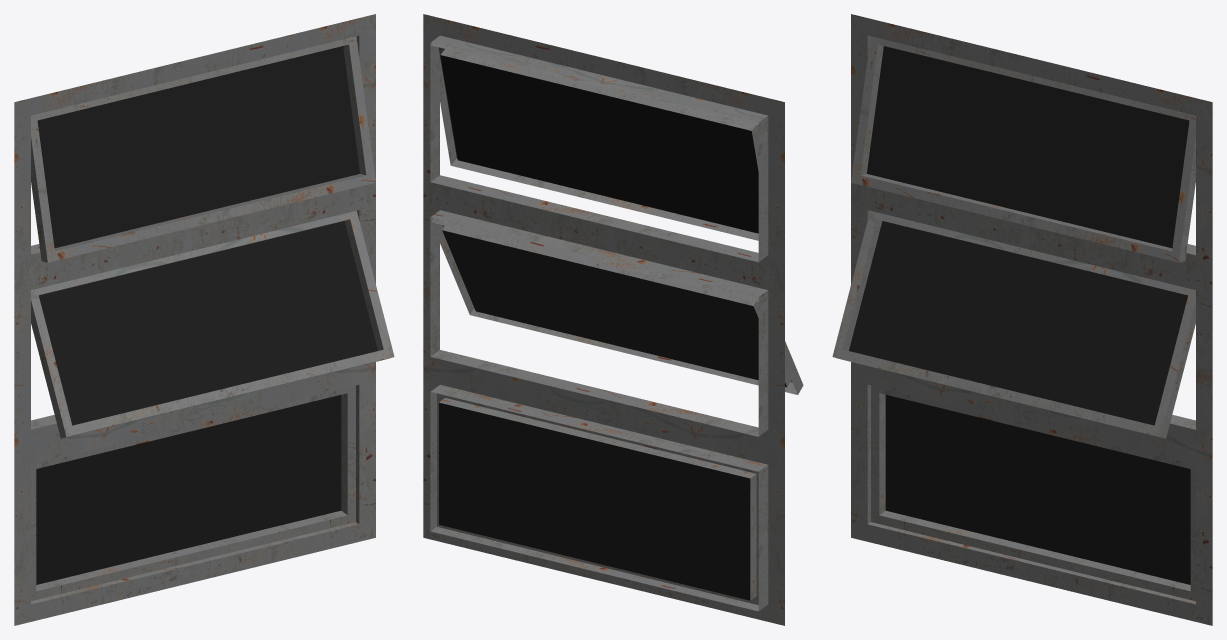
The model's file is window_001_001_26.gltf.
3 renders of one model, left to right at view 1: azimuth 30°, elevation 25°; view 2: azimuth 150°, elevation 25°; view 3: azimuth 330°, elevation 25°, orthographic.
Visible parts, largest first — view 1: Window_001.001_26; view 2: Window_001.001_26; view 3: Window_001.001_26.
Boxes of the visible parts, x1=… form: Window_001.001_26: x1=14, y1=14, x2=394, y2=625; Window_001.001_26: x1=423, y1=14, x2=803, y2=625; Window_001.001_26: x1=832, y1=14, x2=1212, y2=625.
Bounding box in the file's own units: 0.65 × 0.9 × 0.14.
2 materials, 1 textured.
